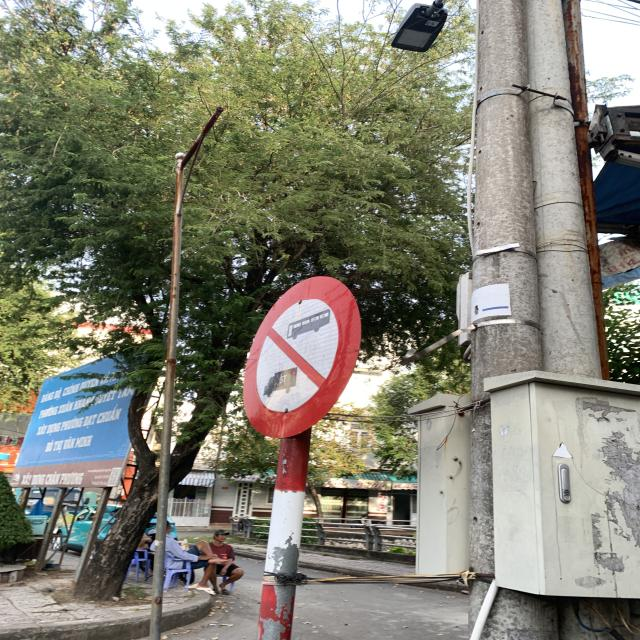Cam_XeTai_XeKhach: (240, 277, 364, 438)
